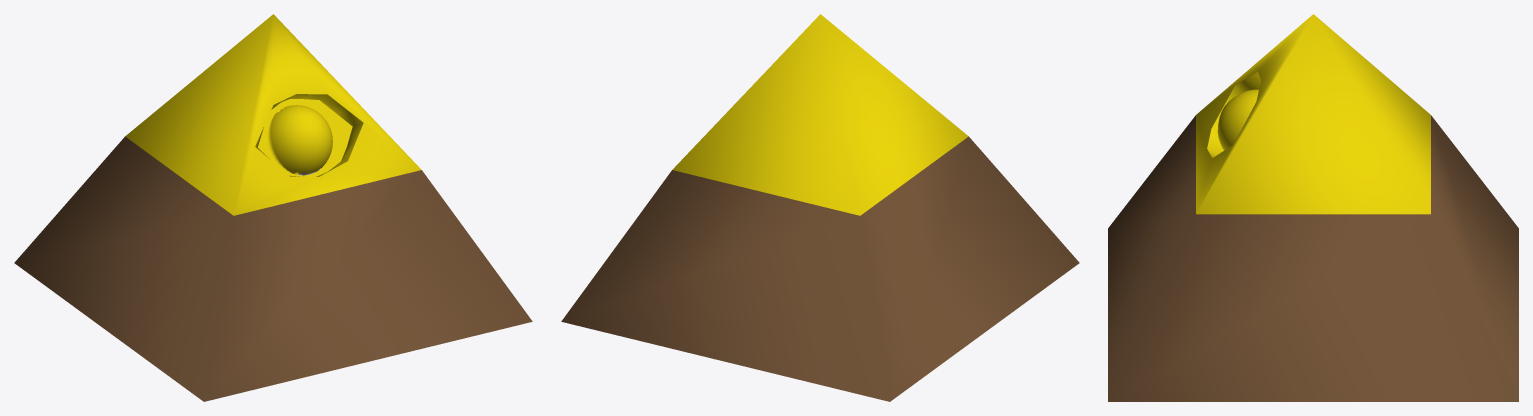
File: TURRET_ILLUMINATI.fbx
3 renders of one model, left to right at view 1: azimuth 30°, elevation 25°; view 2: azimuth 150°, elevation 25°; view 3: azimuth 270°, elevation 25°, orthographic. The views are drawn at different scales.
Visible parts, largest first — view 1: ILLUMINATI; view 2: ILLUMINATI; view 3: ILLUMINATI.
Boxes of the visible parts, <box> form: ILLUMINATI: <box>14,14,532,401</box>; ILLUMINATI: <box>561,14,1079,401</box>; ILLUMINATI: <box>1108,14,1518,401</box>.
Size of the model in its own units: 22.6 by 18.28 by 22.6.
